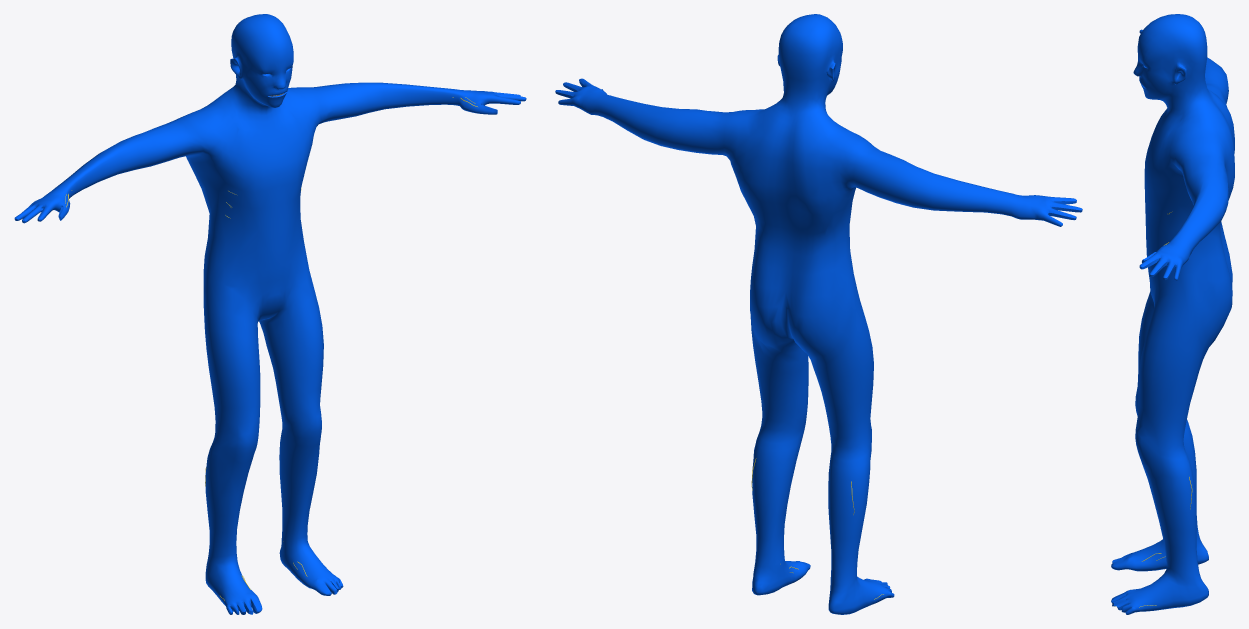
The model's file is Nervous System_Low.FBX.
3 renders of one model, left to right at view 1: azimuth 30°, elevation 25°; view 2: azimuth 150°, elevation 25°; view 3: azimuth 270°, elevation 25°, orthographic. The views are drawn at different scales.
Parts seen in each view (by area): view 1: Outer_Body; view 2: Outer_Body; view 3: Outer_Body.
Part boxes in pixels (x1=…): Outer_Body: x1=14, y1=14, x2=526, y2=614; Outer_Body: x1=555, y1=14, x2=1082, y2=614; Outer_Body: x1=1111, y1=14, x2=1234, y2=614.
Size of the model in its own units: 173 by 36.47 by 186.
8 materials, 5 textured.
